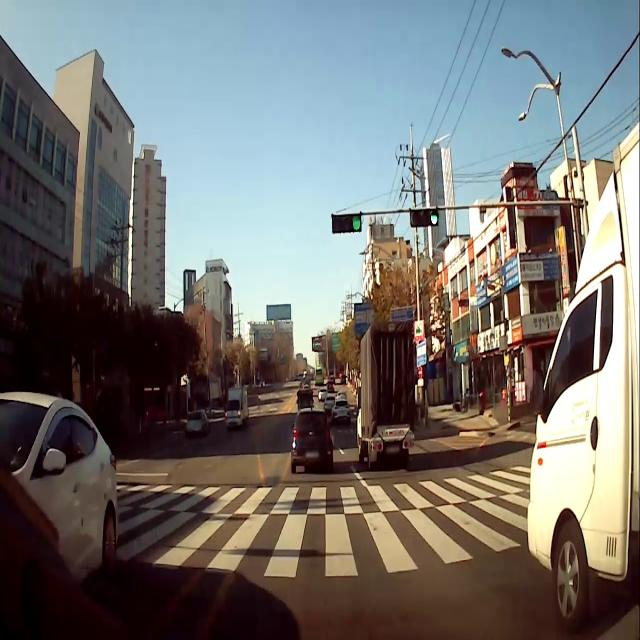Green Light: (352, 212, 362, 232), (429, 210, 438, 225)
